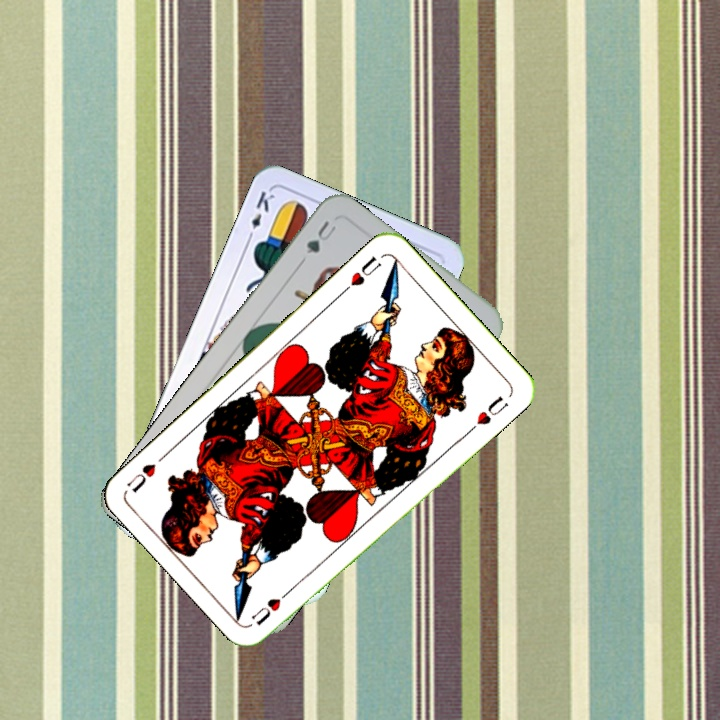EK: (242, 186, 277, 244)
GU: (302, 216, 341, 257)
HU: (247, 583, 296, 629), (338, 252, 384, 296)
